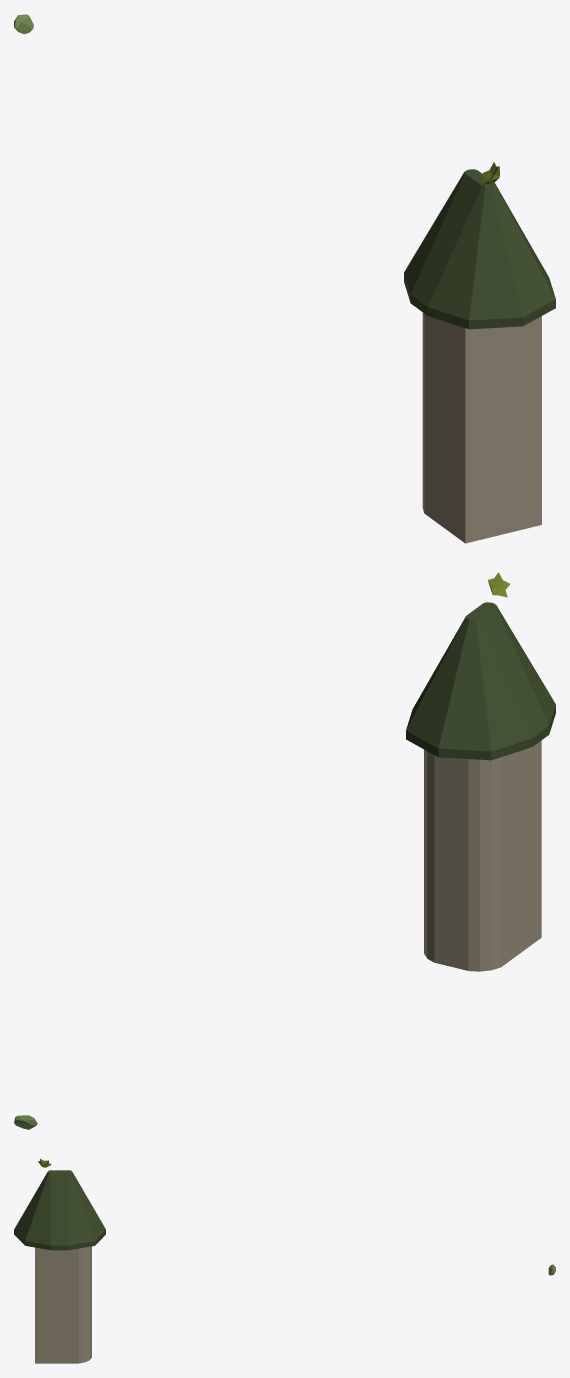
3 renders of one model, top to bottom at view 1: azimuth 30°, elevation 25°; view 2: azimuth 150°, elevation 25°; view 3: azimuth 270°, elevation 25°, orthographic. The views are drawn at different scales.
Visible parts, largest first — view 1: Box948_wall3_0, Cylinder1646_roof1_0; view 2: Box948_wall3_0, Cylinder1646_roof1_0; view 3: Box948_wall3_0, Cylinder1646_roof1_0.
Part boxes in pixels (box(x1,y1,x2,y2)): Box948_wall3_0: box(422, 312, 541, 543); Cylinder1646_roof1_0: box(404, 169, 555, 329); Box948_wall3_0: box(424, 740, 541, 971); Cylinder1646_roof1_0: box(406, 602, 555, 760); Box948_wall3_0: box(35, 1246, 91, 1363); Cylinder1646_roof1_0: box(14, 1170, 105, 1250).
Bounding box in the file's own units: 440 × 1263 × 3179.
